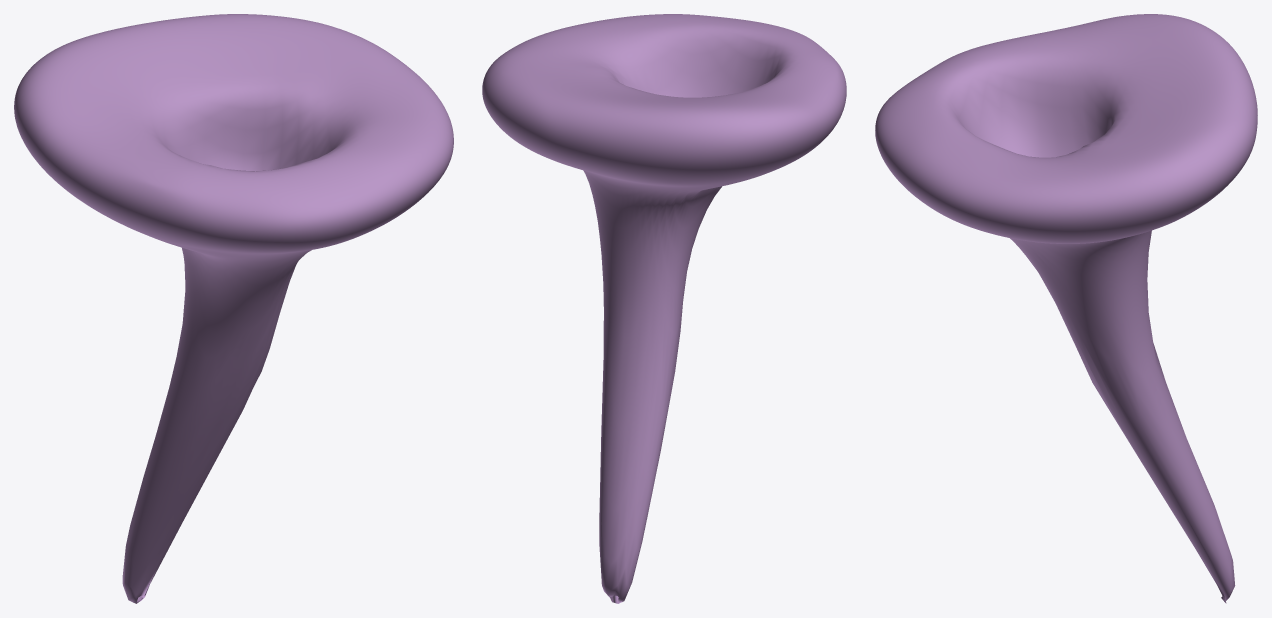
File: mushroom_4.fbx
3 renders of one model, left to right at view 1: azimuth 30°, elevation 25°; view 2: azimuth 150°, elevation 25°; view 3: azimuth 270°, elevation 25°, orthographic. The views are drawn at different scales.
Visible parts, largest first — view 1: Cube.003; view 2: Cube.003; view 3: Cube.003.
Boxes of the visible parts, bbox=[...] form: Cube.003: bbox=[14, 14, 453, 603]; Cube.003: bbox=[482, 14, 846, 603]; Cube.003: bbox=[875, 14, 1257, 603].
Size of the model in its own units: 236 by 353 by 230.
